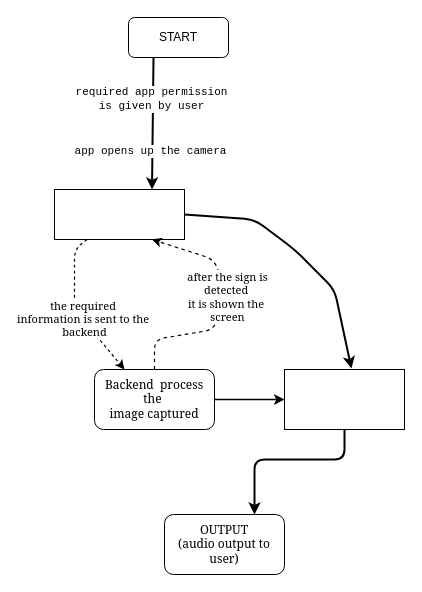
Some shapes in this 422 by 592 pixel diagram are drawn without their labels. The box of each missing label's shape, as (x1, y1, x2, y2) in pixels:
after the sign is known we convert it to audio: (284, 368, 404, 430)
Capture The Image (Live capturing): (54, 188, 184, 240)
